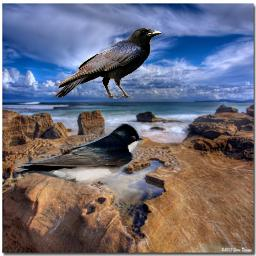Crow: (54, 26, 161, 99)
Swallow: (14, 123, 143, 194)
